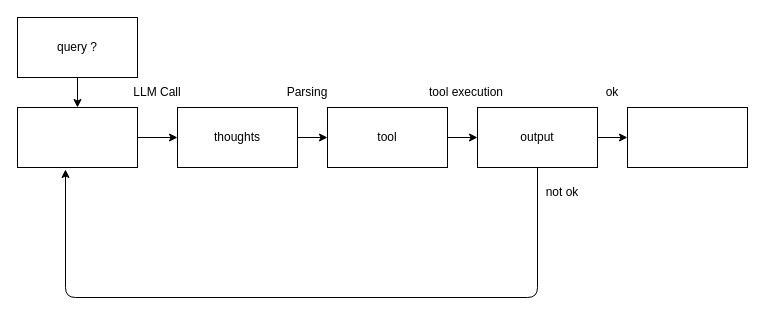
This 765x323 diagram has some shape labels left out. Here are the shapes that lost their labels. From the top down, the box of each, then its label:
(16, 106, 138, 168): agent
(626, 106, 748, 168): answer
